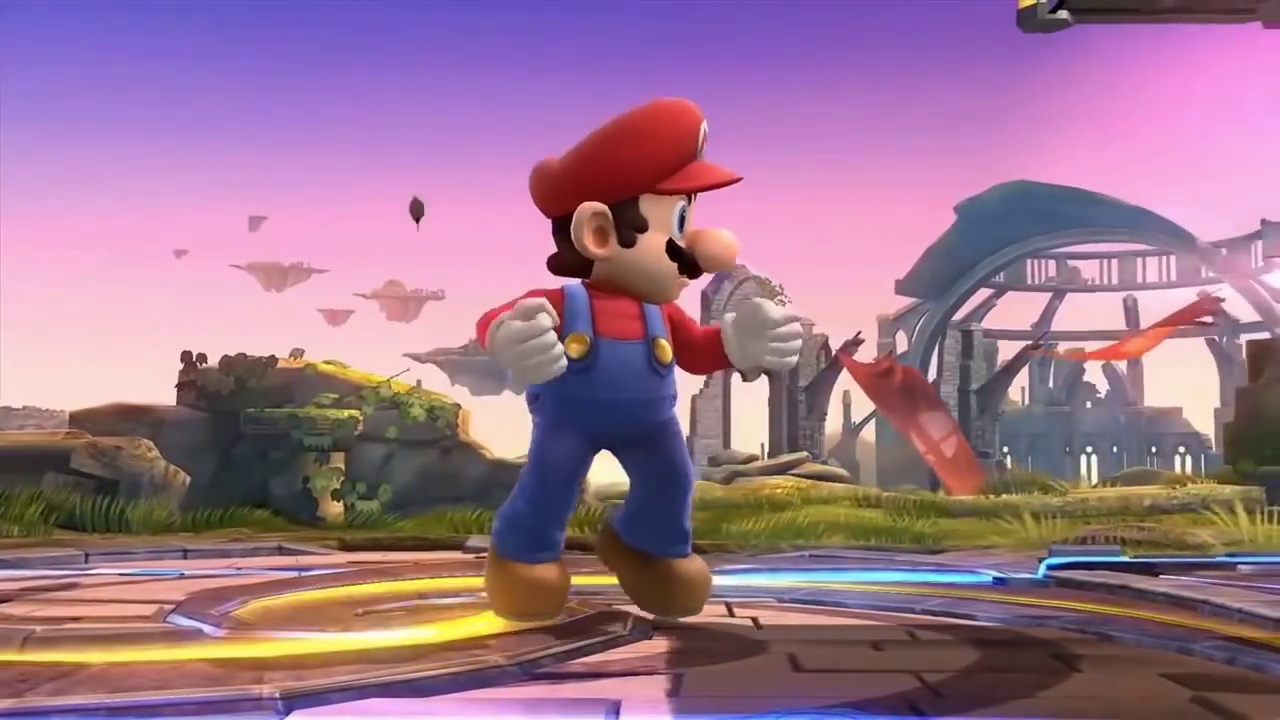Mario: (477, 97, 801, 621)
